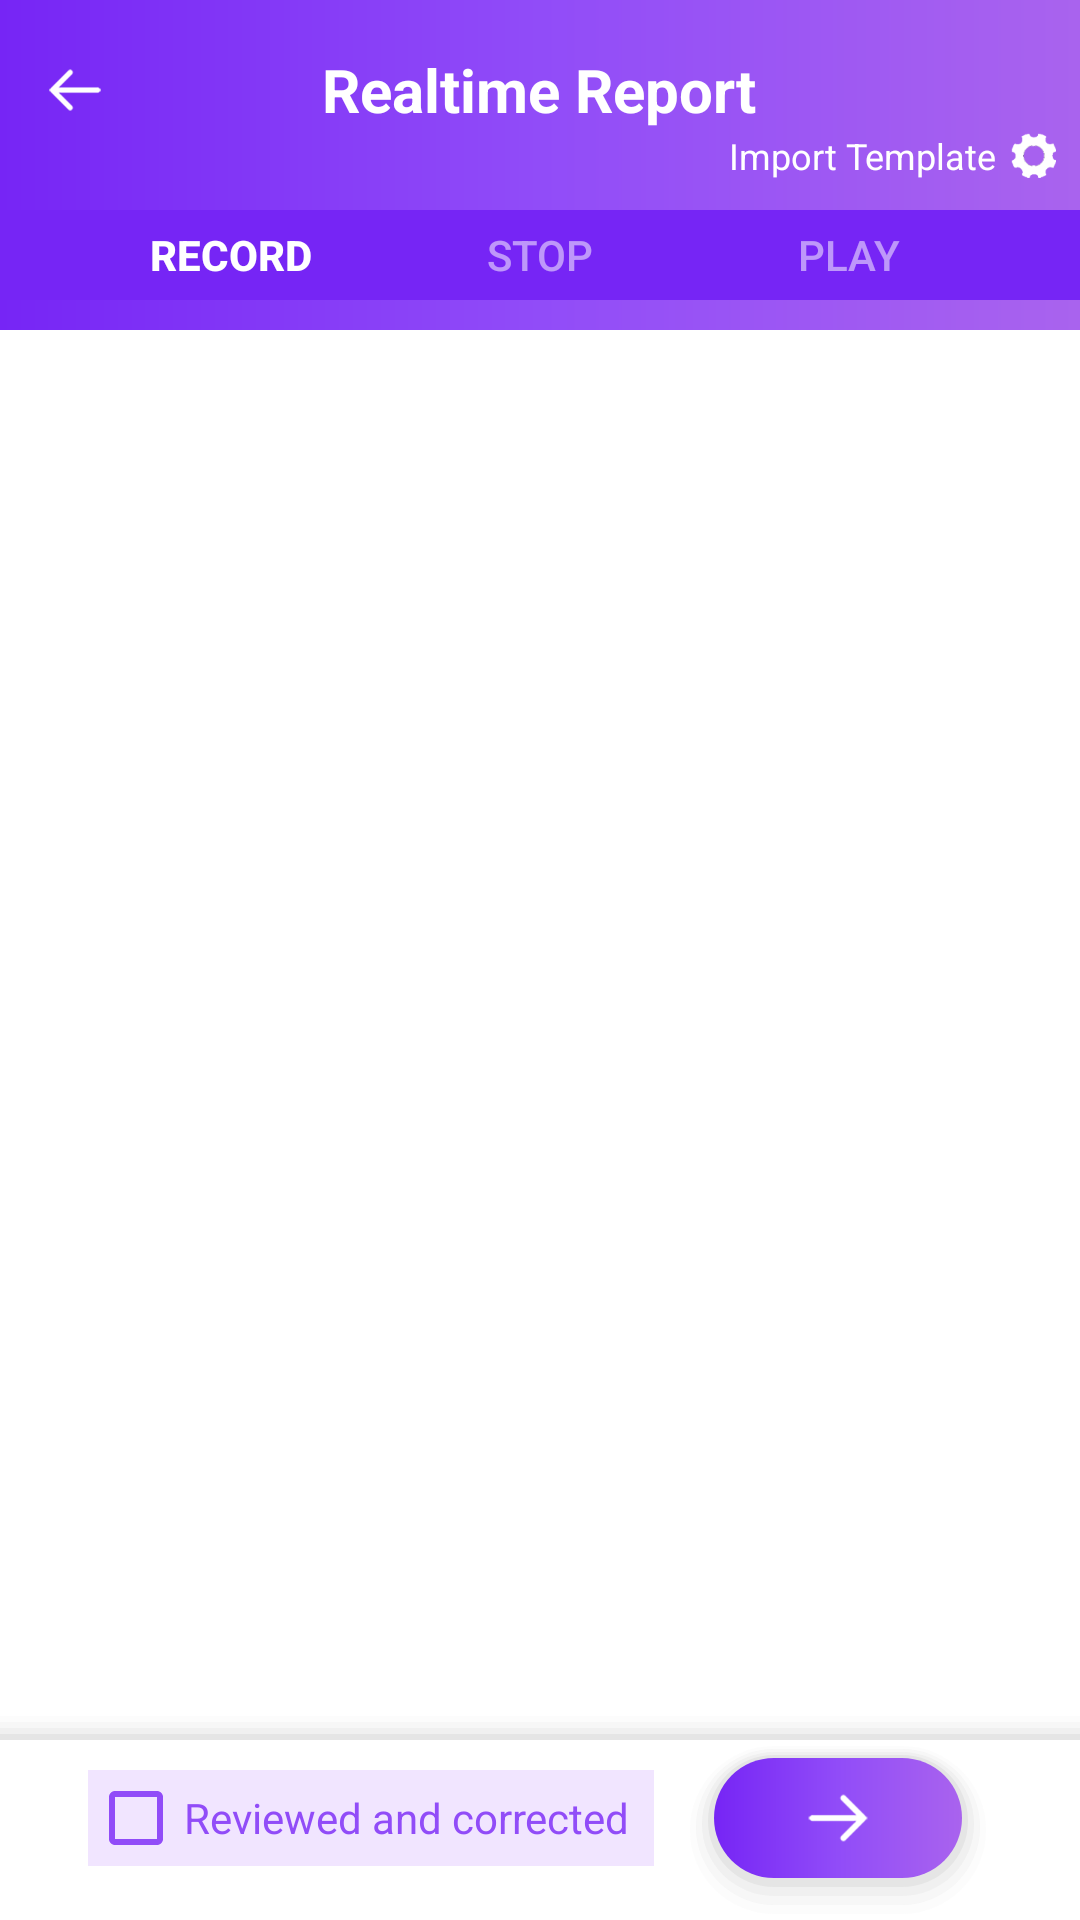

Icon click points for this 1080 x 1920 phone screenshot, format (x,y):
leftarrow: (75,90)
rightarrow: (838,1821)
